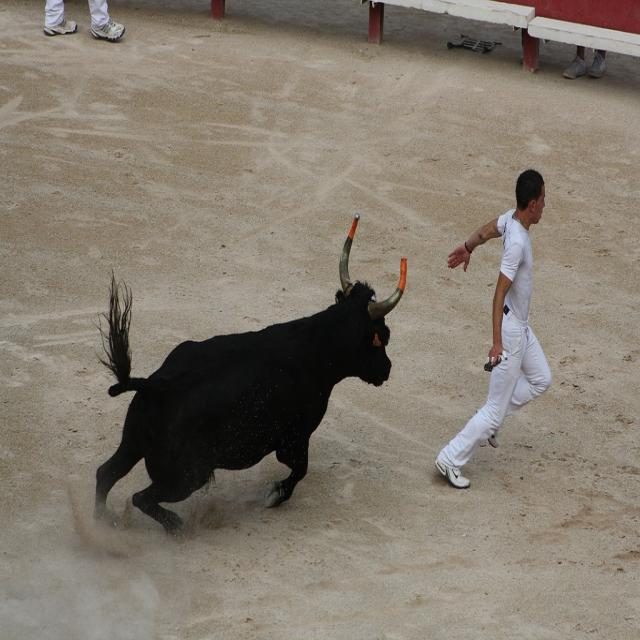Deer: (94, 217, 406, 536)
